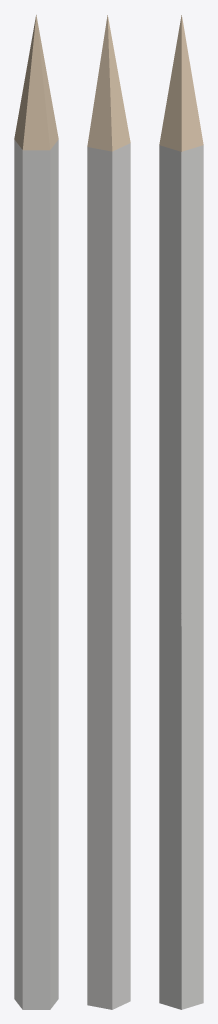
Rendered from SM_pencil_03.fbx.
3 views of the same model, side by side, from view 1: azimuth 90°, elevation 25°; view 2: azimuth 210°, elevation 25°; view 3: azimuth 270°, elevation 25° (orthographic).
Visible parts, largest first — view 1: Cylinder007; view 2: Cylinder007; view 3: Cylinder007.
Boxes of the visible parts, x1,y1,x2,y2 form: Cylinder007: [14, 15, 58, 1009]; Cylinder007: [87, 15, 130, 1009]; Cylinder007: [159, 15, 203, 1009].
Bounding box in the file's own units: 0.3903 × 10.05 × 0.4104.
